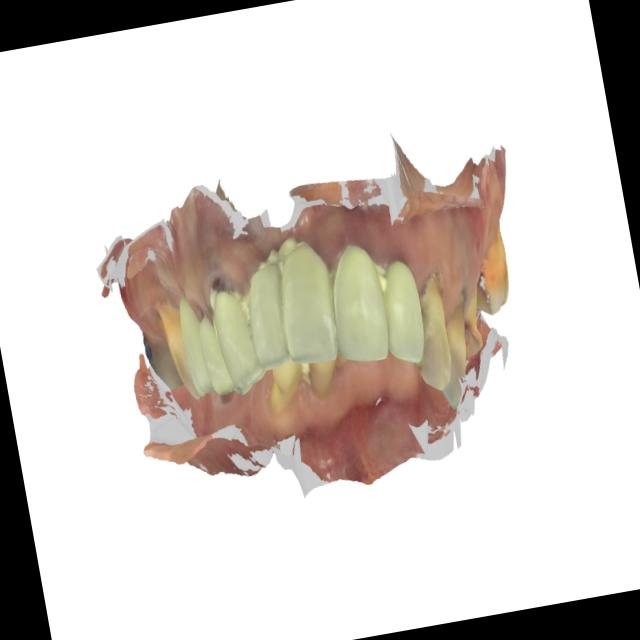tooth: (262, 222, 349, 381), (314, 226, 398, 375), (200, 264, 274, 401), (368, 240, 437, 383), (398, 268, 466, 404), (234, 243, 299, 382), (145, 282, 209, 413), (421, 284, 484, 414), (168, 283, 220, 407), (132, 303, 190, 404), (189, 297, 243, 405), (466, 216, 520, 324), (257, 346, 313, 416), (451, 268, 492, 362), (293, 341, 349, 403)
